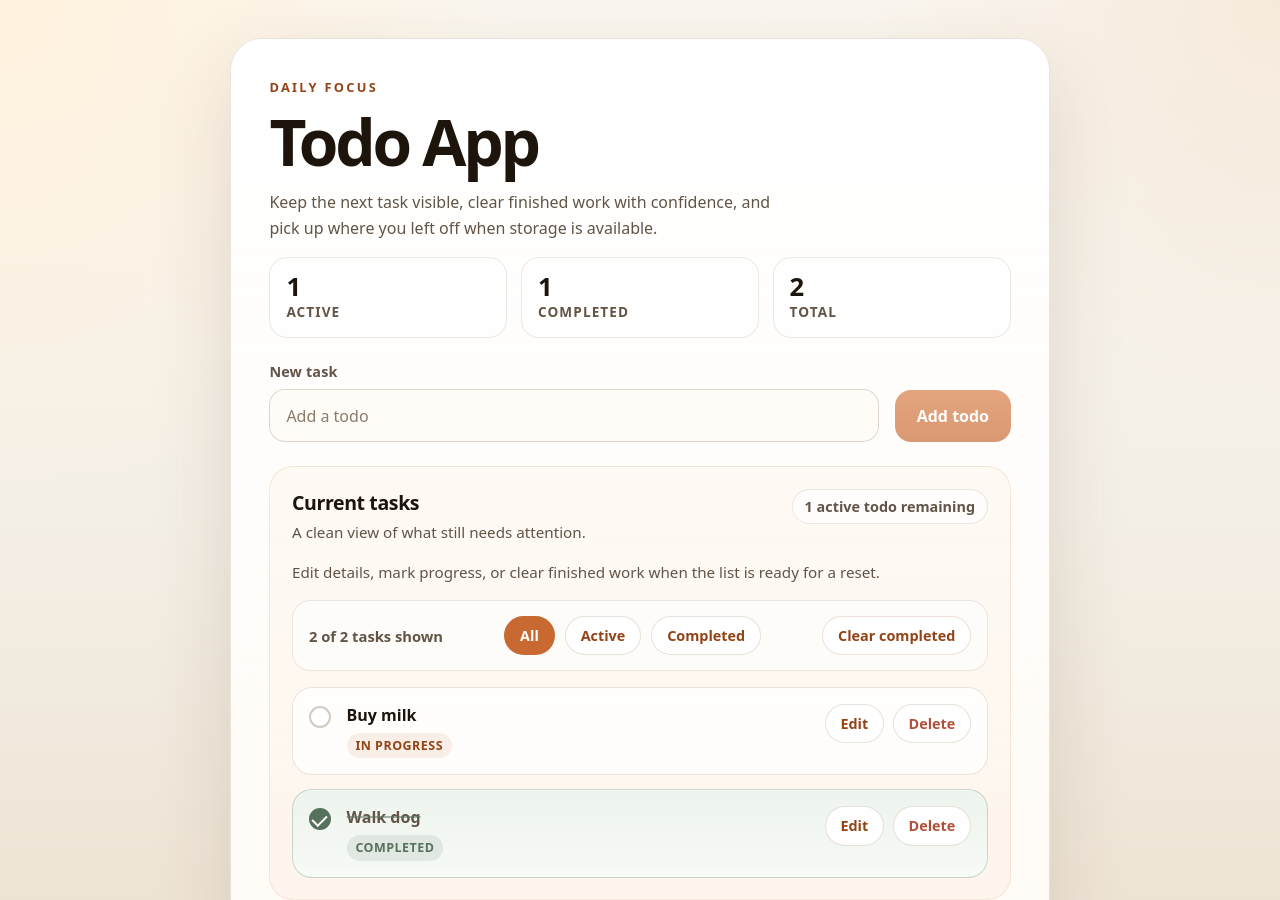
Scenario: HomePage › filters todos by all, active, and completed states
Expected: the text "Buy milk" is shown, 347,704 -> 416,726
Expected: the text "Walk dog" is shown, 347,806 -> 420,828
What coordinates should you click on to do the following:
click the button "Active"
I would click on:
 (603, 636)
Its box is 565,616 -> 641,655.
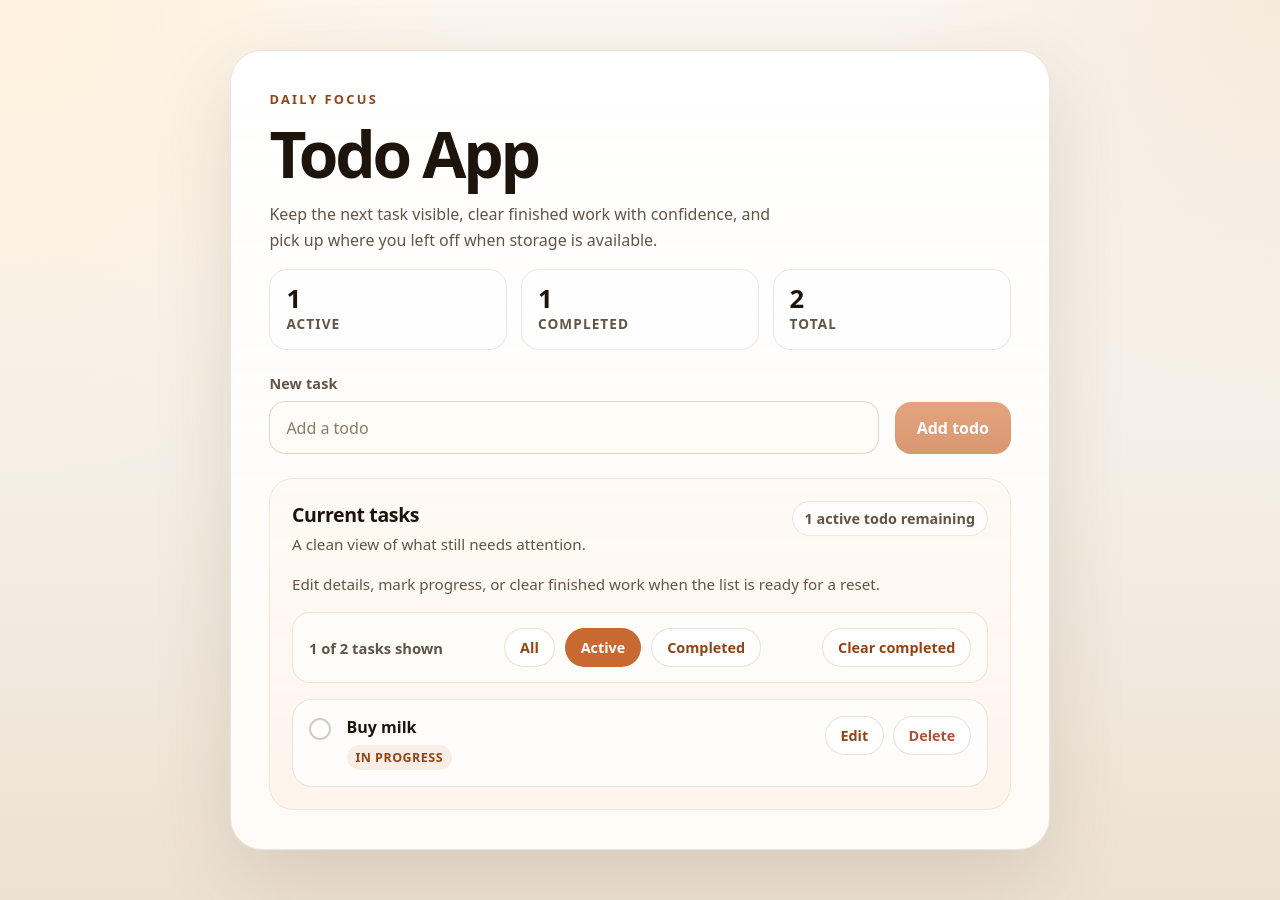
Expected: the text "Buy milk" is shown, 347,716 -> 416,738
Now the text "Walk dog" is gone
What coordinates should you click on to do the following:
click the button "Completed"
I would click on:
 (706, 648)
Its box is 651,628 -> 761,667.
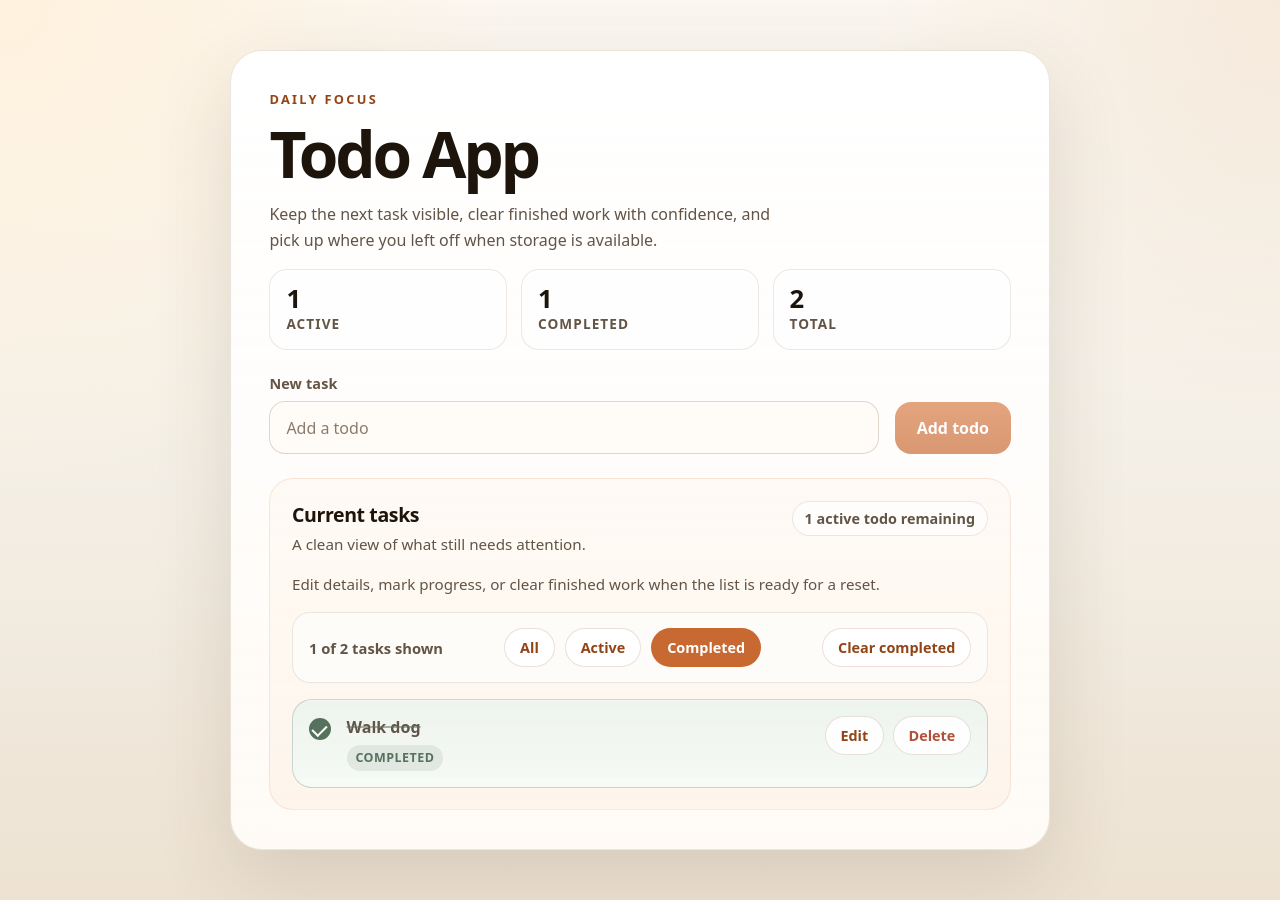
Now the text "Buy milk" is gone
Now the text "Walk dog" is shown, box 347,716 -> 420,738
What coordinates should you click on to do the following:
click the button "All"
I would click on:
 (530, 648)
Its box is 504,628 -> 555,667.
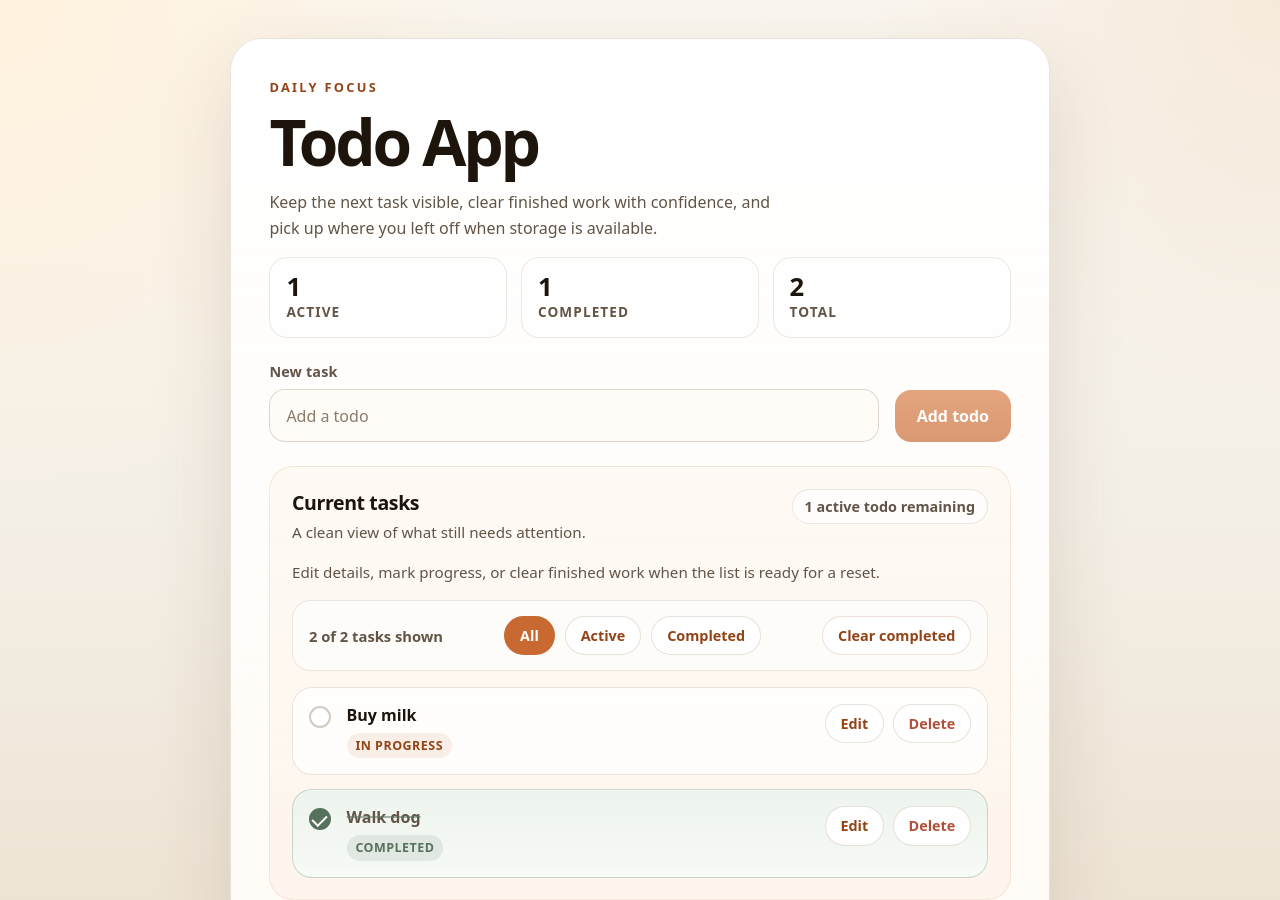
Now the text "Walk dog" is shown, box 347,806 -> 420,828
Now the text "Buy milk" is shown, box 347,704 -> 416,726
